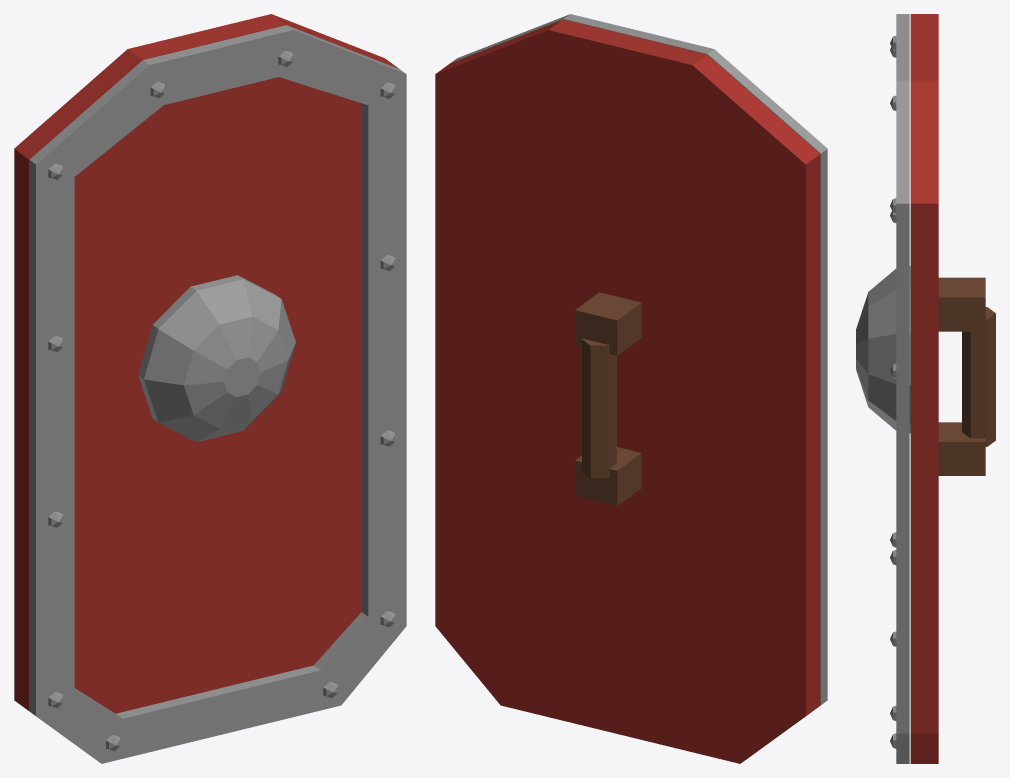
File: prop-shield-tower.glb
The picture shows the model from 3 angles, left to right: view 1: azimuth 30°, elevation 25°; view 2: azimuth 150°, elevation 25°; view 3: azimuth 270°, elevation 25°; orthographic projection. The views are drawn at different scales.
Parts seen in each view (by area): view 1: shield-tower; view 2: shield-tower; view 3: shield-tower.
Boxes of the visible parts, x1,y1,x2,y2 form: shield-tower: (14,14,406,763); shield-tower: (435,14,827,763); shield-tower: (856,14,995,763).
Bounding box in the file's own units: 0.4385 × 0.7768 × 0.149.
Materials: 1 (1 with a texture image).
